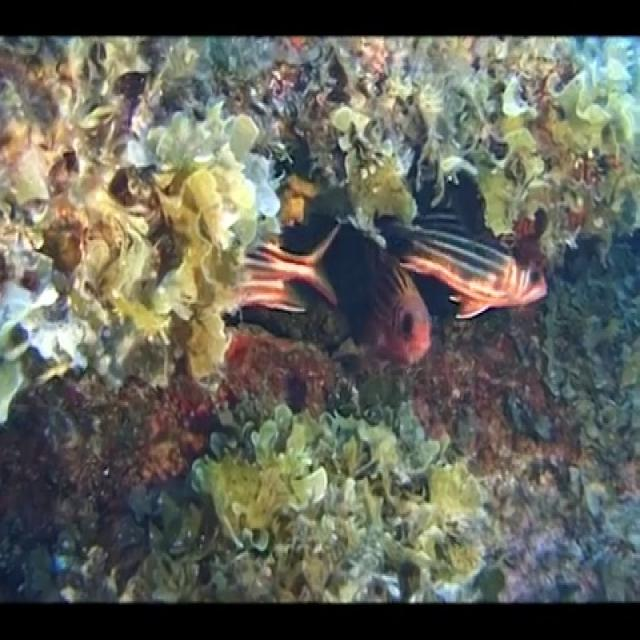Asker Baligi: (0, 34, 639, 599), (392, 209, 555, 318), (313, 222, 427, 376)
